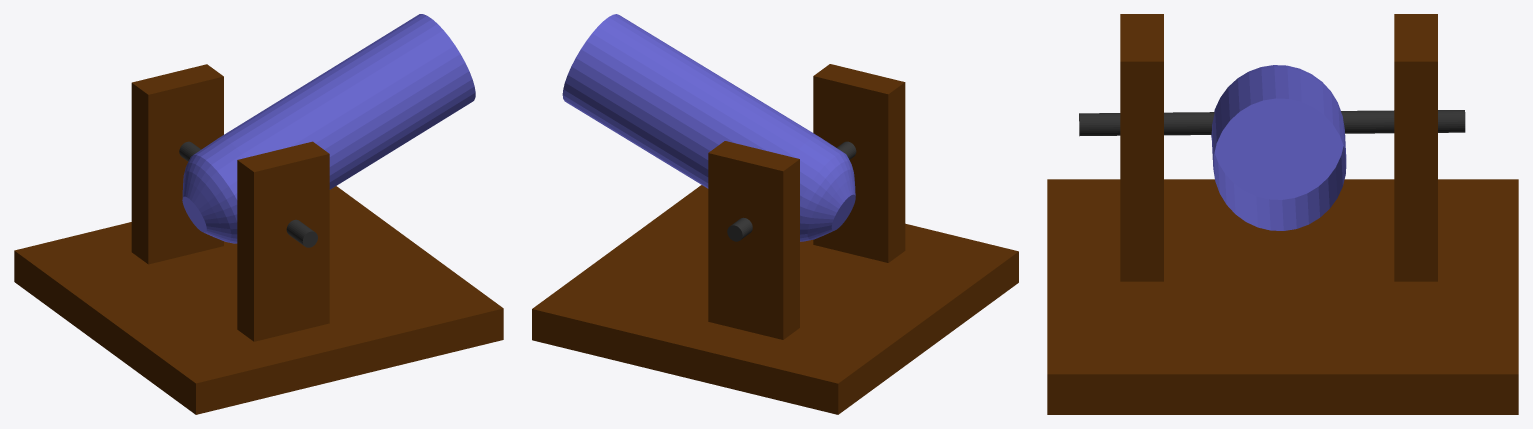
The model's file is cannon_base.fbx.
3 renders of one model, left to right at view 1: azimuth 30°, elevation 25°; view 2: azimuth 150°, elevation 25°; view 3: azimuth 270°, elevation 25°, orthographic. The views are drawn at different scales.
Visible parts, largest first — view 1: Cylinder.001, Cylinder; view 2: Cylinder.001, Cylinder; view 3: Cylinder.001, Cylinder.
Boxes of the visible parts, x1,y1,x2,y2 form: Cylinder.001: [14, 64, 503, 414]; Cylinder: [182, 14, 475, 243]; Cylinder.001: [532, 64, 1018, 414]; Cylinder: [562, 14, 855, 241]; Cylinder.001: [1047, 14, 1518, 414]; Cylinder: [1211, 65, 1346, 230].
Bounding box in the file's own units: 795 × 541 × 706.
